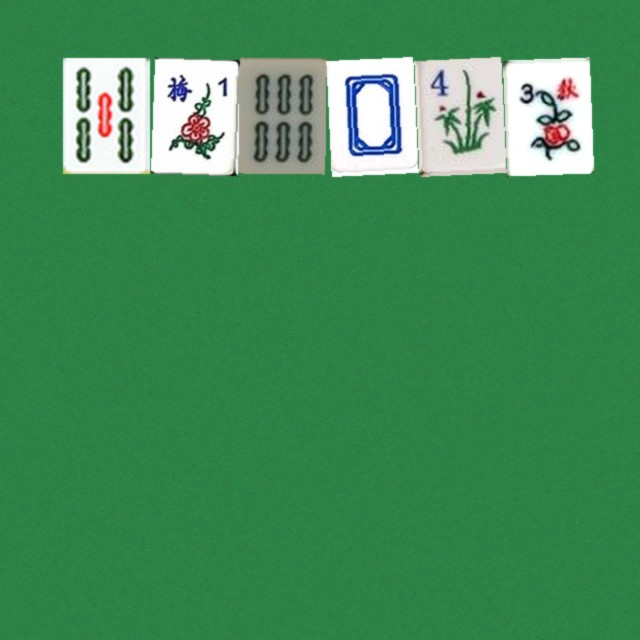tile: (62, 57, 149, 173), (150, 57, 237, 173), (238, 57, 325, 173), (326, 57, 413, 173), (414, 57, 501, 173), (502, 57, 589, 173)
